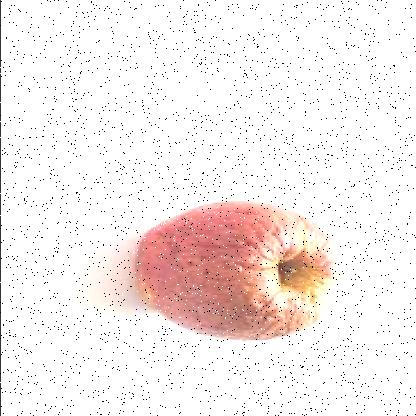damaged_apple: (132, 198, 346, 346)
